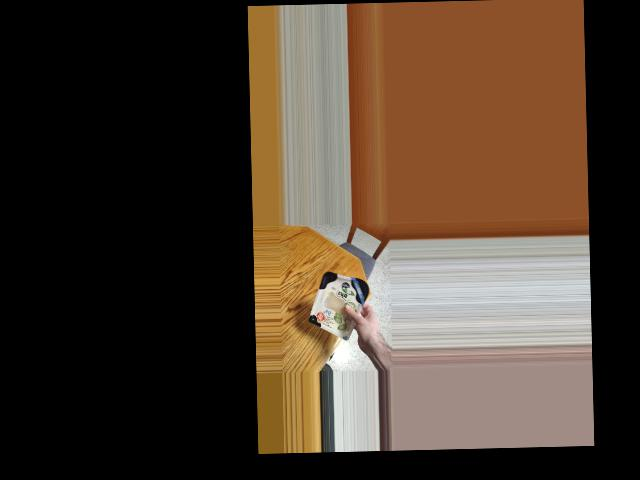cheese: (310, 267, 367, 329)
